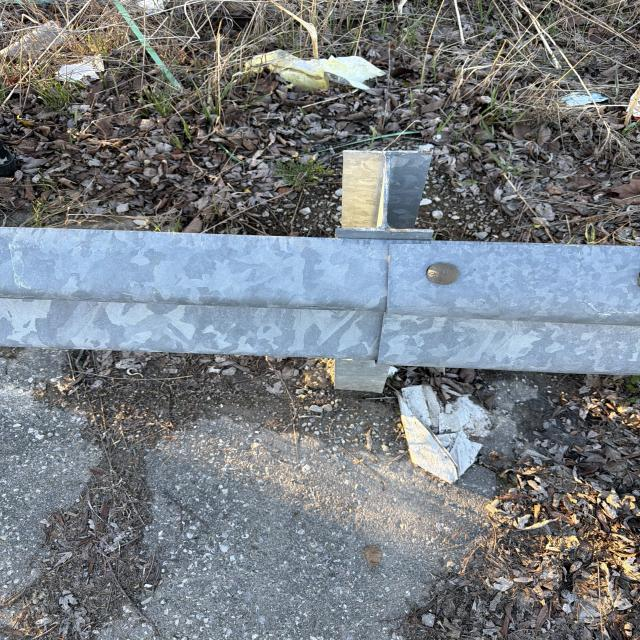Guard rail: (19, 179, 626, 360)
